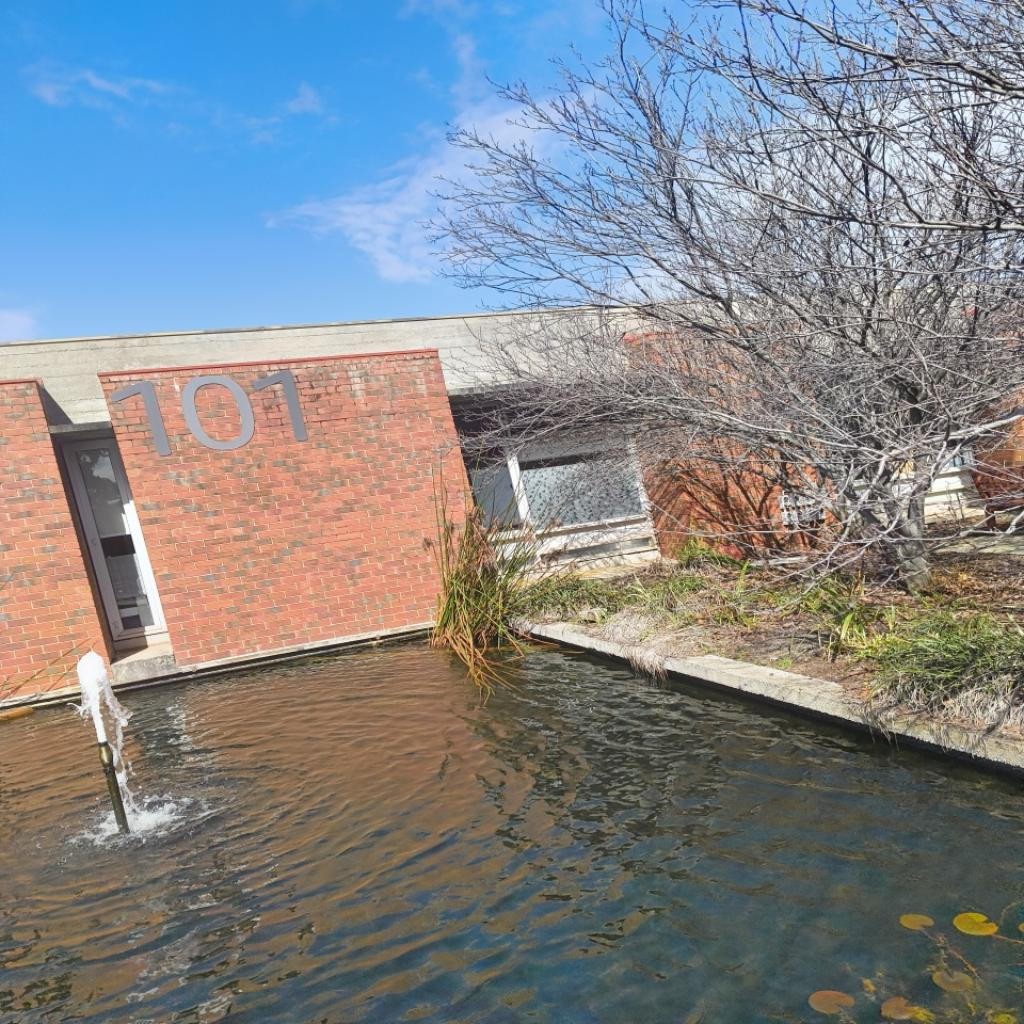BuildingCodes: (100, 366, 314, 446)
